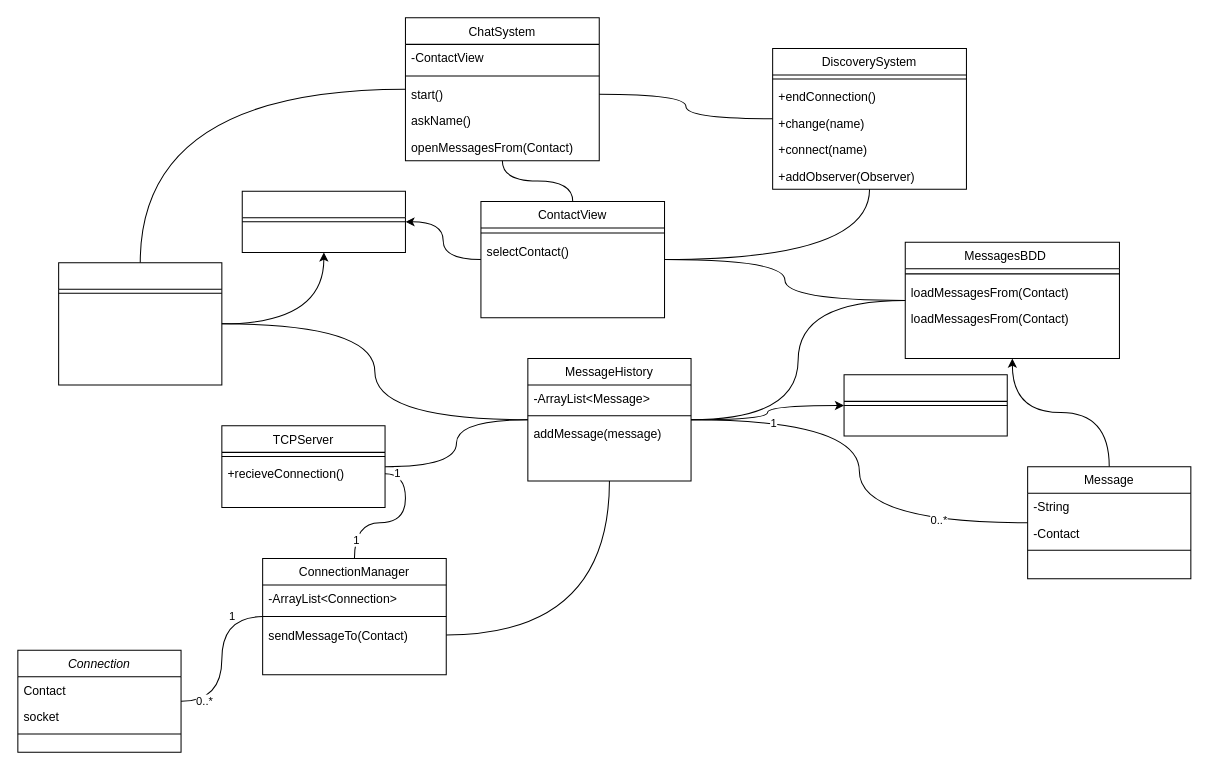
Image size: 1209x770. Some labels were removed from this diagram. Each missing label, with the centre of its shape:
MessagesView: the point at 140,323
Observable: the point at 925,405
Observer: the point at 323,221
